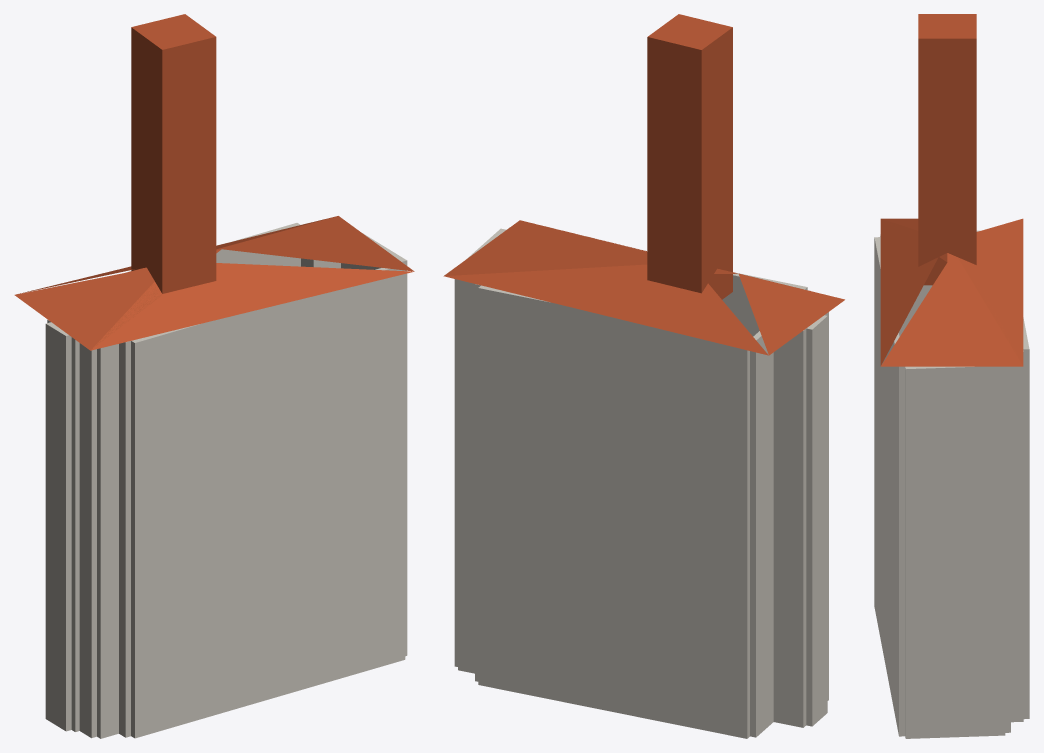
The model's file is courthouse.glb.
3 views of the same model, side by side, from view 1: azimuth 30°, elevation 25°; view 2: azimuth 150°, elevation 25°; view 3: azimuth 270°, elevation 25° (orthographic). The views are drawn at different scales.
Visible parts, largest first — view 1: courthouse__wall_13_xb, courthouse__wall_14_xb, courthouse__chimney_xb, courthouse__wall_4_xb, courthouse_roof_front_xb, courthouse__wall_1_xb, courthouse__wall_2_xb, courthouse_roof_left_xb, courthouse_roof_right_xb, courthouse__wall_0_xb, courthouse__wall_3_xb, courthouse__wall_12_xb (+1 smaller); view 2: courthouse__wall_9_xb, courthouse__wall_7_xb, courthouse__chimney_xb, courthouse__wall_5_xb, courthouse__wall_8_xb, courthouse_roof_back_xb, courthouse__wall_6_xb, courthouse__wall_4_xb, courthouse__wall_11_xb, courthouse_roof_right_xb, courthouse_roof_left_xb, courthouse__wall_12_xb (+3 smaller); view 3: courthouse__wall_12_xb, courthouse__chimney_xb, courthouse_roof_right_xb, courthouse__wall_13_xb, courthouse_roof_back_xb, courthouse__wall_10_xb, courthouse_roof_front_xb, courthouse__wall_14_xb, courthouse__wall_9_xb, courthouse__wall_11_xb, courthouse_roof_left_xb.
Boxes of the visible parts, x1,y1,x2,y2 form: courthouse__wall_13_xb: [257, 263, 405, 702]; courthouse__wall_14_xb: [131, 310, 257, 738]; courthouse__chimney_xb: [131, 14, 216, 293]; courthouse__wall_4_xb: [45, 322, 71, 731]; courthouse_roof_front_xb: [91, 263, 413, 350]; courthouse__wall_1_xb: [97, 344, 118, 738]; courthouse__wall_2_xb: [79, 343, 96, 738]; courthouse_roof_left_xb: [14, 249, 221, 350]; courthouse_roof_right_xb: [130, 216, 414, 271]; courthouse__wall_0_xb: [119, 341, 130, 737]; courthouse__wall_3_xb: [71, 337, 79, 731]; courthouse__wall_12_xb: [341, 232, 407, 656]; courthouse__wall_9_xb: [478, 285, 604, 710]; courthouse__wall_7_xb: [635, 323, 749, 738]; courthouse__chimney_xb: [647, 14, 732, 299]; courthouse__wall_5_xb: [773, 329, 806, 727]; courthouse__wall_8_xb: [604, 315, 634, 716]; courthouse_roof_back_xb: [444, 264, 768, 355]; courthouse__wall_6_xb: [750, 331, 773, 737]; courthouse__wall_4_xb: [806, 315, 827, 726]; courthouse__wall_11_xb: [458, 280, 474, 673]; courthouse_roof_right_xb: [443, 220, 736, 276]; courthouse_roof_left_xb: [738, 274, 844, 355]; courthouse__wall_12_xb: [454, 228, 506, 666]; courthouse__wall_12_xb: [905, 366, 1005, 738]; courthouse__chimney_xb: [918, 14, 976, 285]; courthouse_roof_right_xb: [881, 253, 1022, 366]; courthouse__wall_13_xb: [885, 333, 905, 736]; courthouse_roof_back_xb: [957, 218, 1023, 365]; courthouse__wall_10_xb: [1011, 350, 1023, 722]; courthouse_roof_front_xb: [880, 219, 938, 365]; courthouse__wall_14_xb: [874, 237, 885, 664]; courthouse__wall_9_xb: [1023, 317, 1029, 719]; courthouse__wall_11_xb: [1005, 366, 1010, 732]; courthouse_roof_left_xb: [881, 218, 947, 261].
Size of the model in its own units: 0.9334 by 1.75 by 0.3989.
